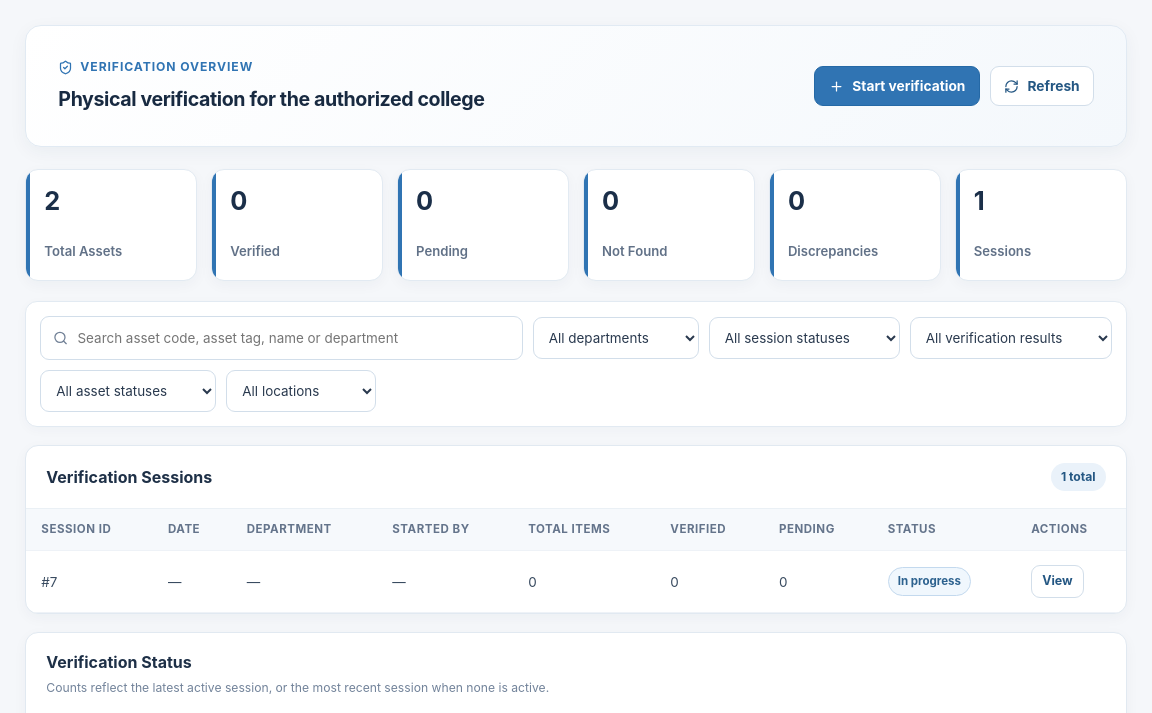
Test case: reports asset loading errors when a session cannot load its college inventory
Click the button "View" at (1057, 582), box [1031, 565, 1084, 598]
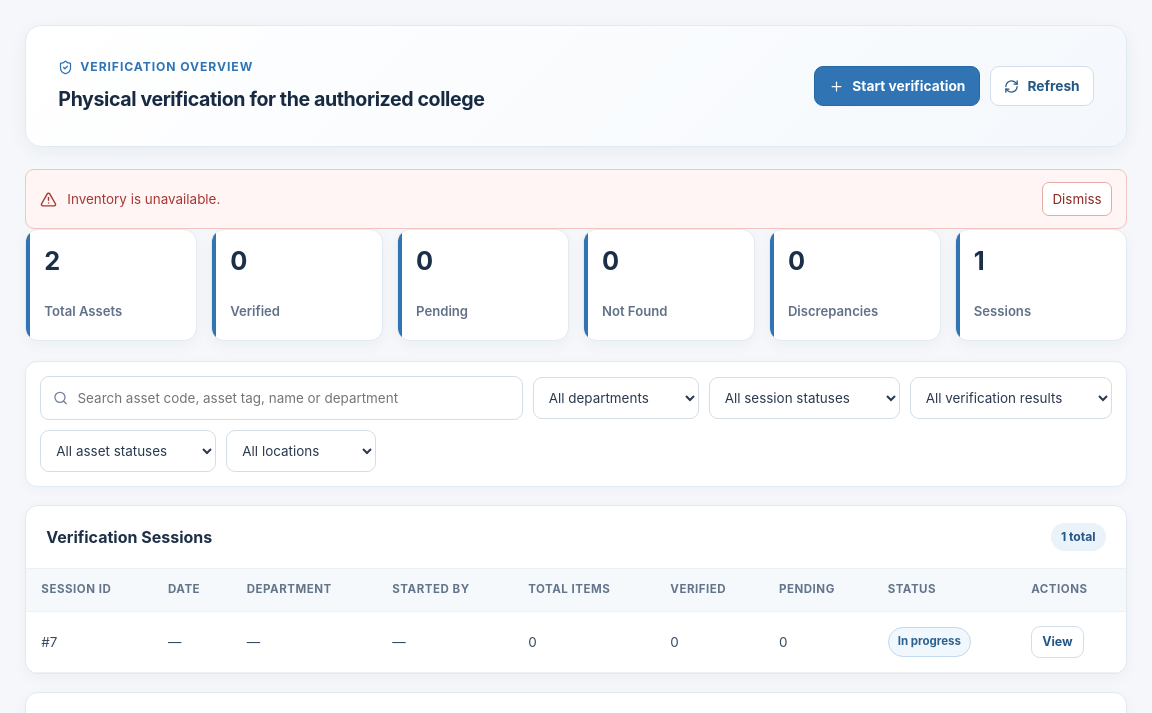
Check: the message shows "Inventory is unavailable.", box [67, 191, 220, 207]
